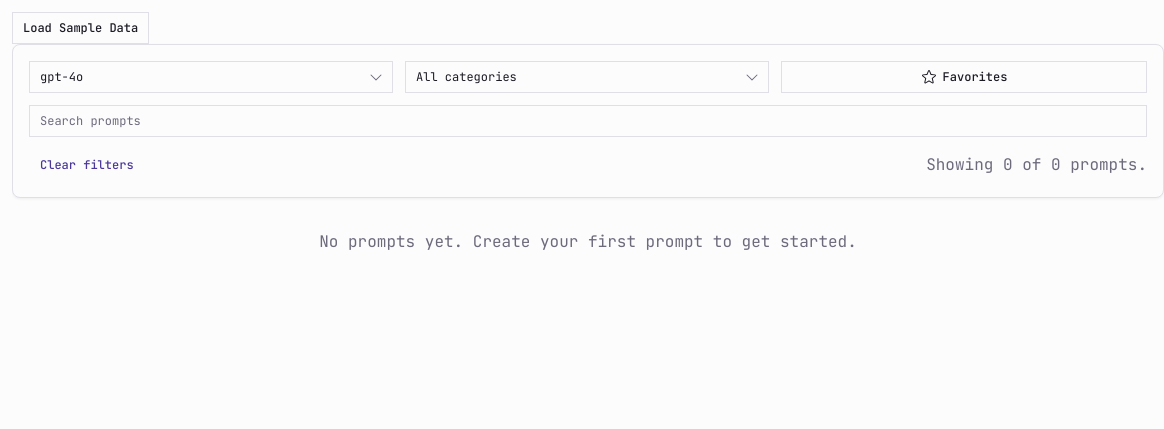
Test: PromptsPage › filters as URL state › reads the model filter from the URL on load
Click the button "Load Sample Data": (81, 28) left=12, top=12, right=149, bottom=44
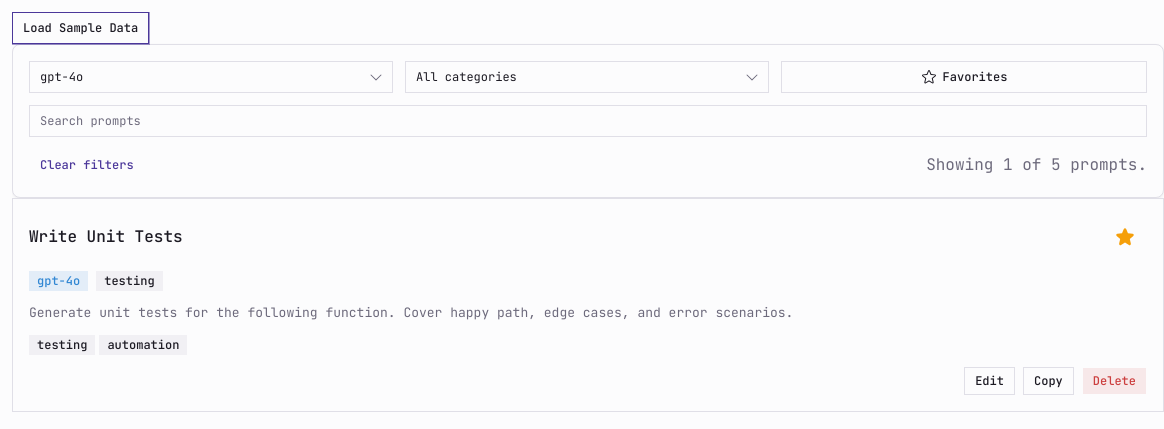
Check: the text "Showing 1 of 5 prompts." is shown, box left=926, top=153, right=1147, bottom=177
Check: the link "Write Unit Tests" is shown, box left=29, top=226, right=183, bottom=247
